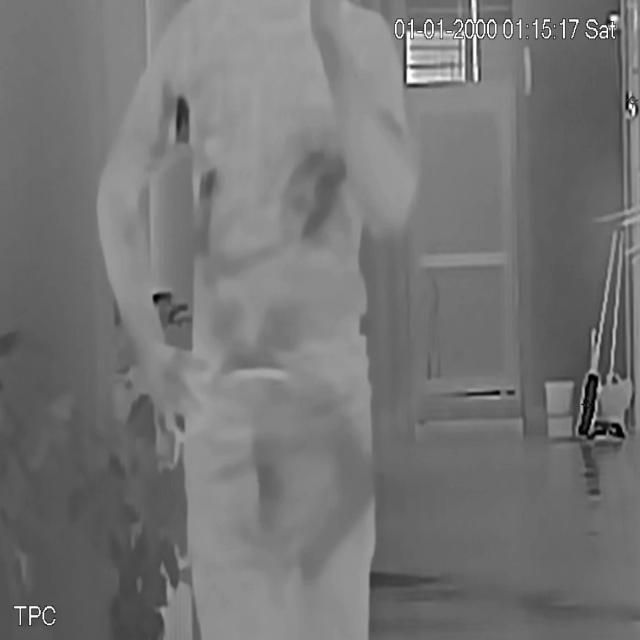Weapon: (300, 429, 379, 588)
